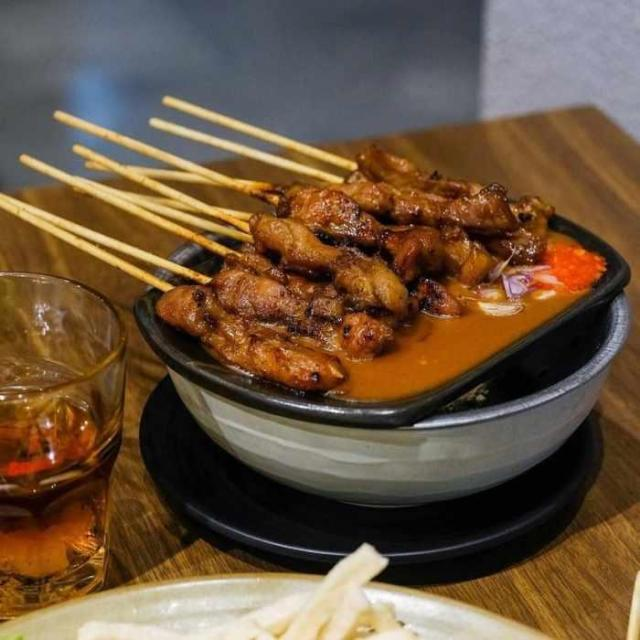Sate: (0, 83, 623, 355)
